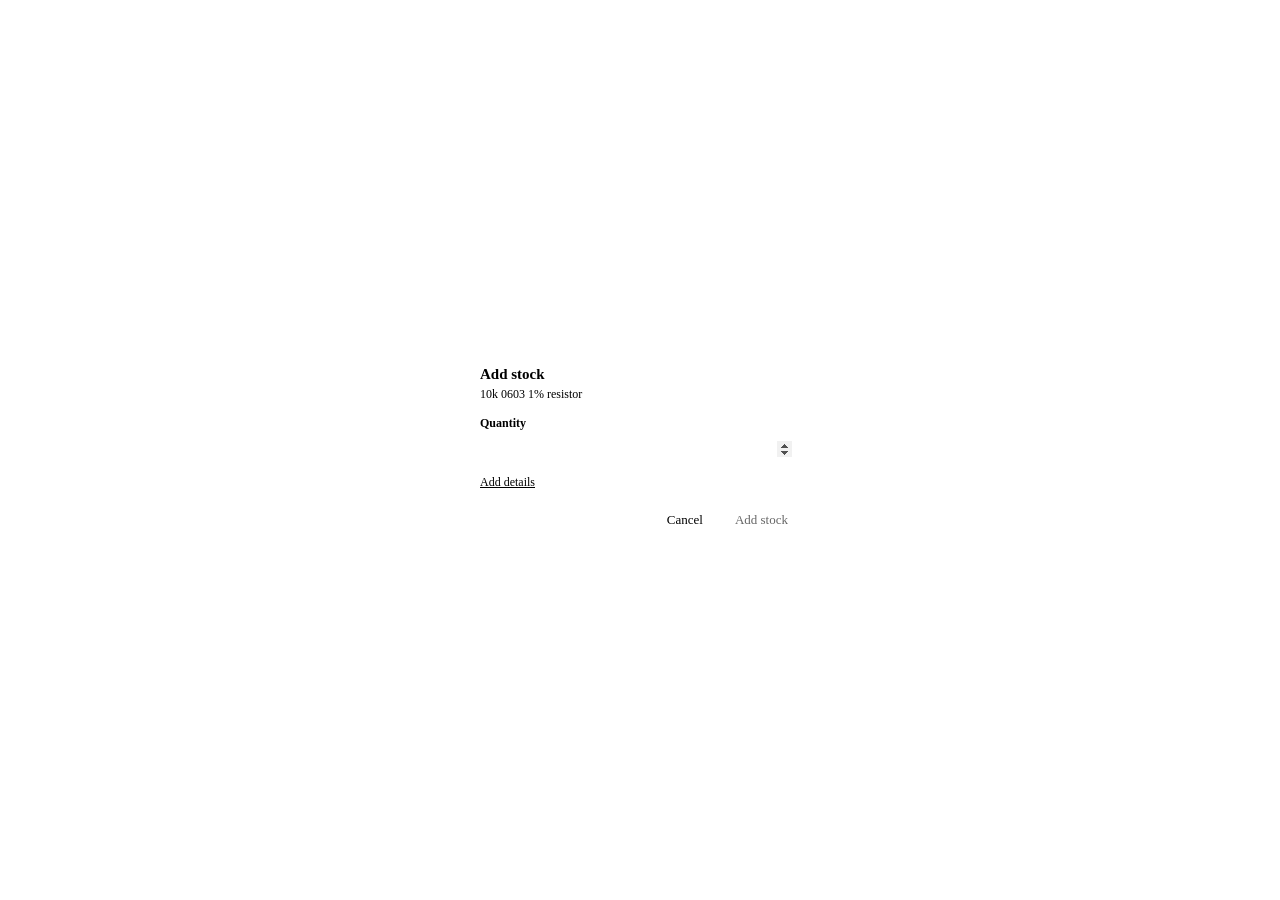
Test: QuickAction — preselected part, no project needed (Add stock) › disables submit until a positive quantity is entered
Expected: the button "Add stock" is disabled, [723, 506, 800, 534]
Type "0" into the number field labelled "Quantity" at (640, 449), box [480, 435, 800, 463]
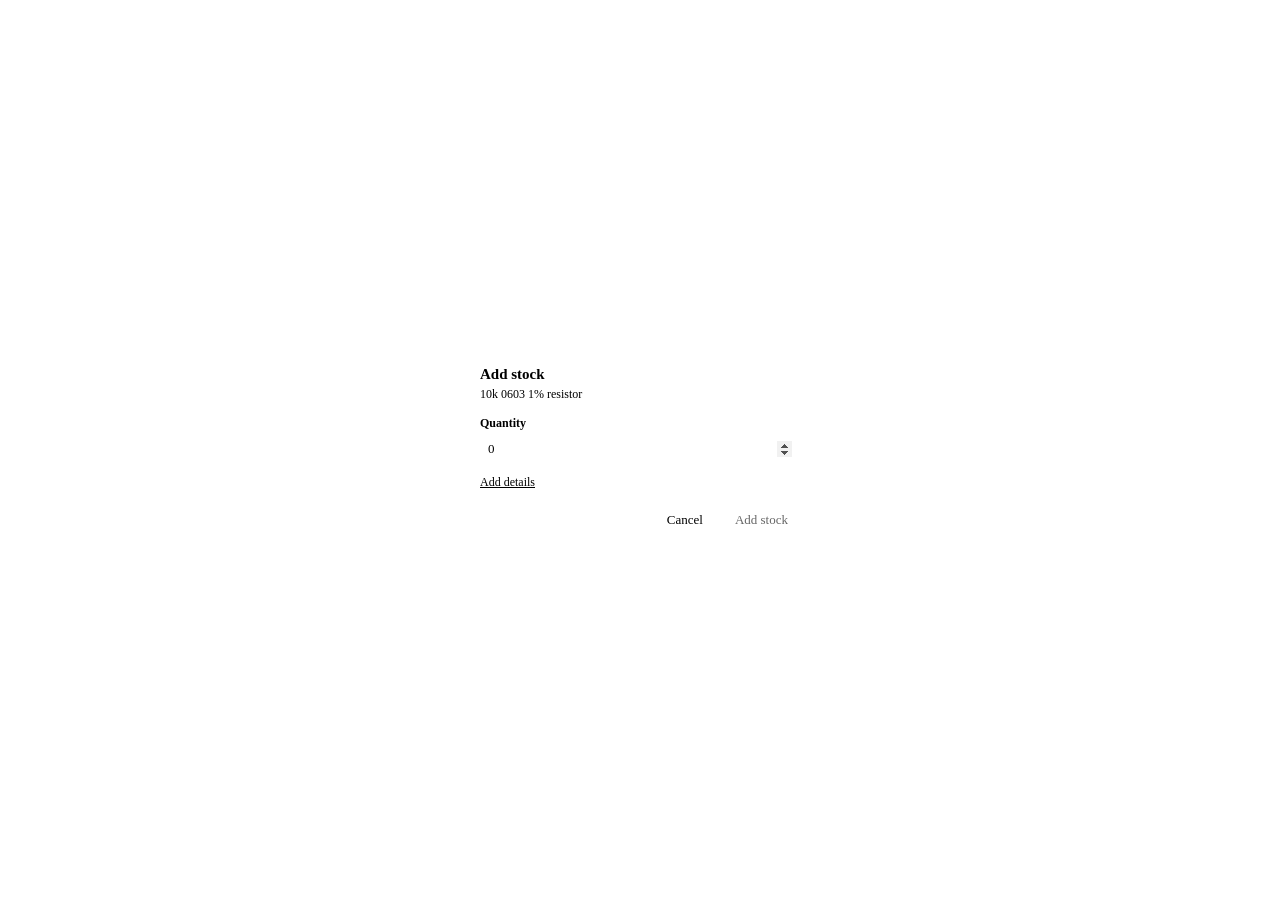
Expected: the button "Add stock" is disabled, [723, 506, 800, 534]
Replace the text in the number field labelled "Quantity" with "3" at (640, 449), box [480, 435, 800, 463]
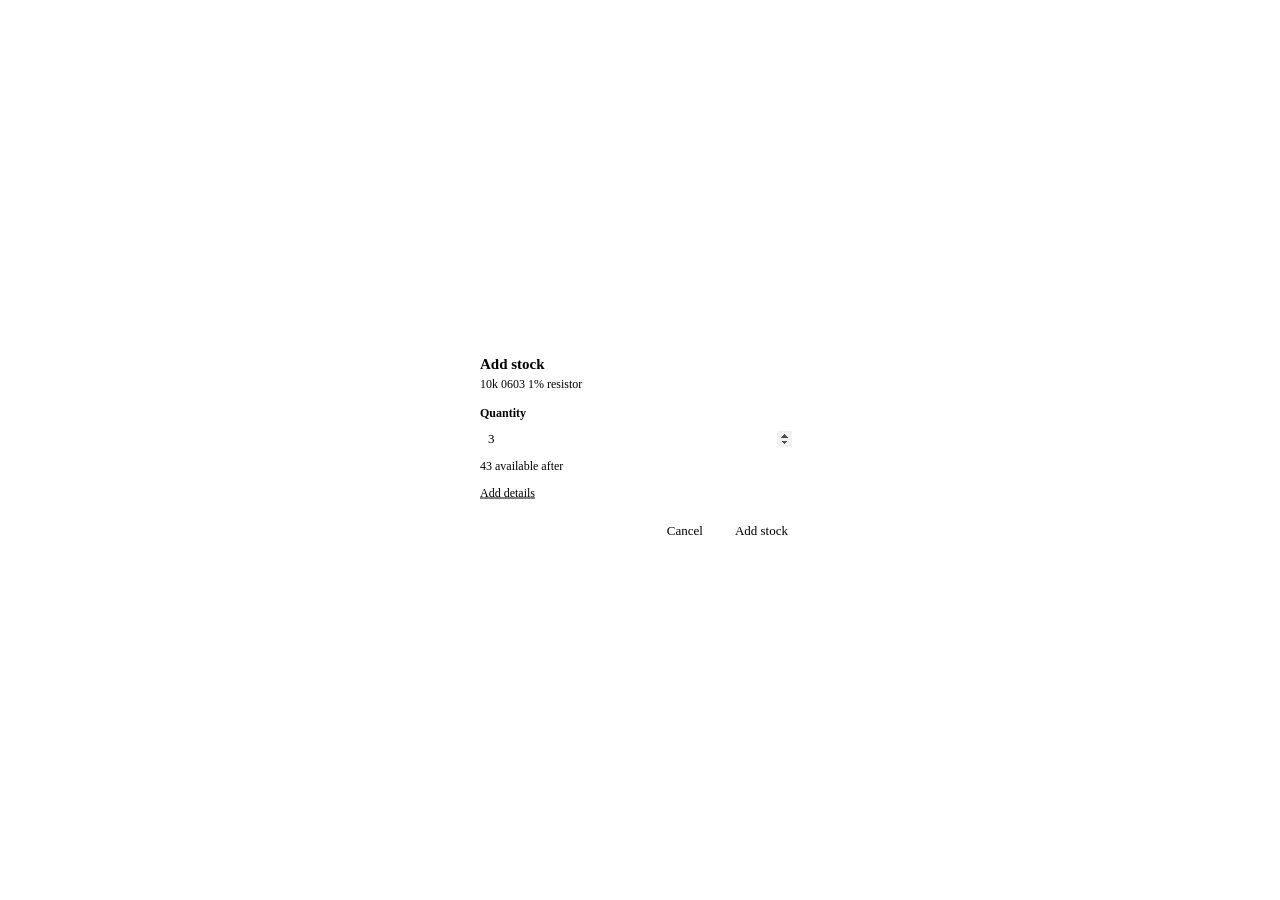
Result: the button "Add stock" is enabled at [723, 516, 800, 544]
